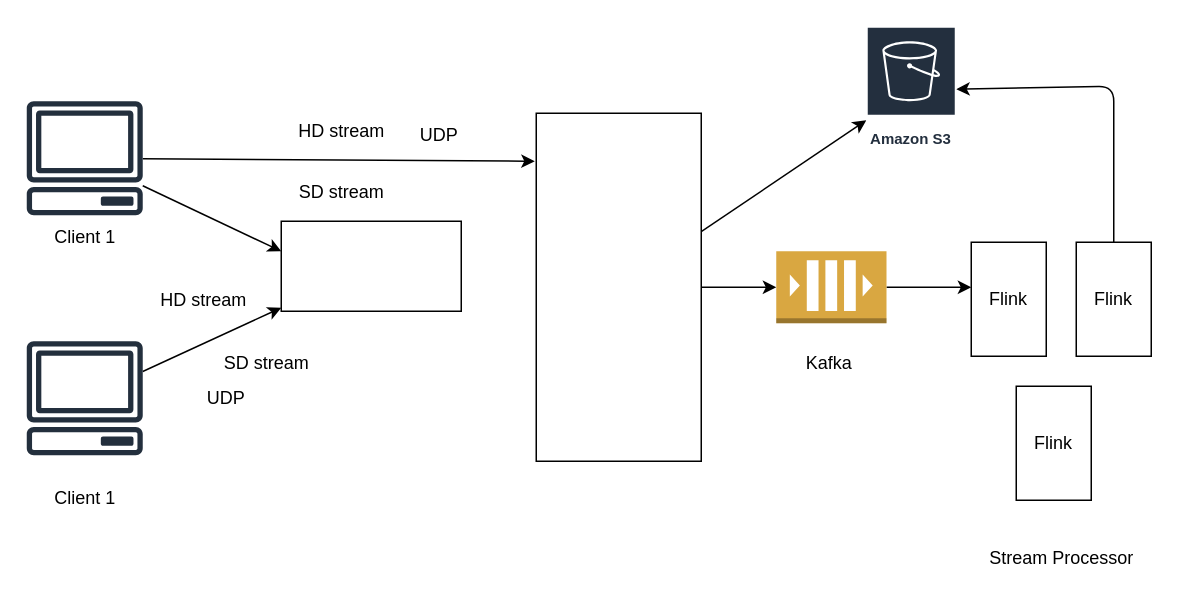
This 1178x608 diagram has some shape labels left out. Here are the shapes that lost their labels. From the top down, the centre of each, then its label:
point 370,265: Stun
point 618,286: Central Video Server (TURN)
